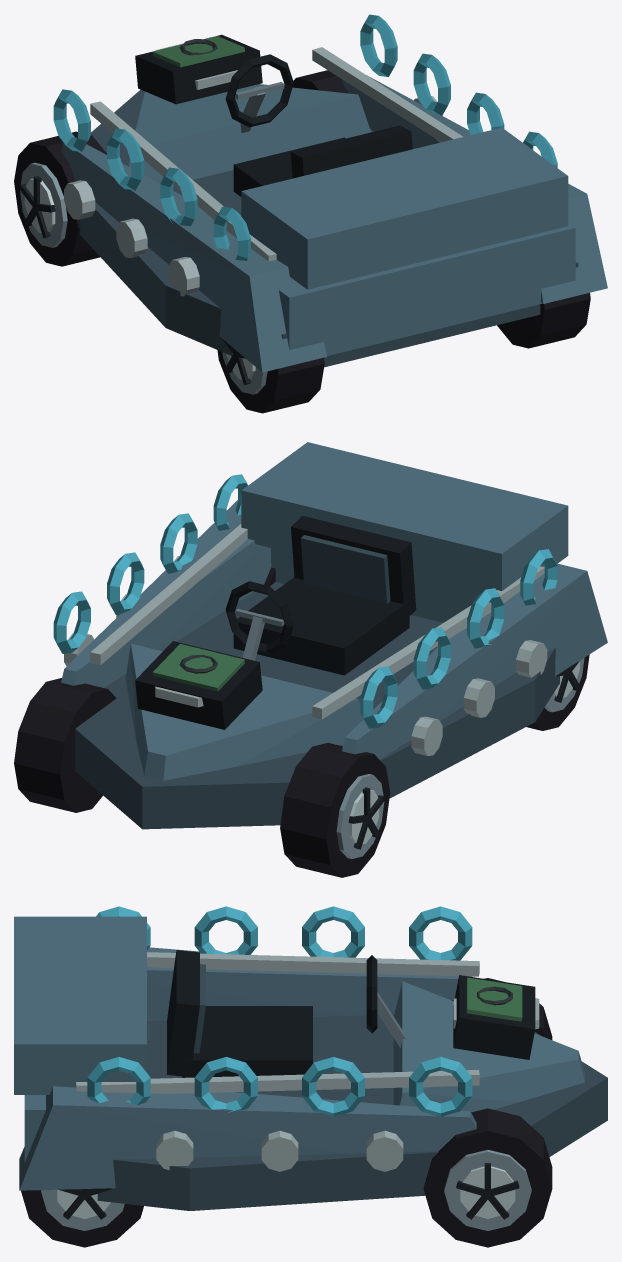
Rendered from kart.glb.
3 views of the same model, one above another, from view 1: azimuth 30°, elevation 25°; view 2: azimuth 150°, elevation 25°; view 3: azimuth 270°, elevation 25° (orthographic).
Parts seen in each view (by area): view 1: identity-ship-ship-pointed-bow-and-raised-stern, identity-ship-motif-water, identity-ship-driver-cockpit, wheel-front-left, identity-ship-motif-scanner, wheel-rear-left, wheel-rear-right, wheel-front-right; view 2: identity-ship-ship-pointed-bow-and-raised-stern, identity-ship-driver-cockpit, wheel-front-left, identity-ship-motif-water, wheel-front-right, identity-ship-motif-scanner, wheel-rear-left; view 3: identity-ship-ship-pointed-bow-and-raised-stern, identity-ship-motif-water, wheel-front-right, identity-ship-driver-cockpit, identity-ship-motif-scanner, wheel-rear-right.
Boxes of the visible parts, x1,y1,x2,y2 form: identity-ship-ship-pointed-bow-and-raised-stern: (61, 47, 607, 372); identity-ship-motif-water: (53, 14, 557, 260); identity-ship-driver-cockpit: (225, 54, 412, 196); wheel-front-left: (14, 131, 106, 266); identity-ship-motif-scanner: (135, 34, 262, 104); wheel-rear-left: (217, 339, 324, 413); wheel-rear-right: (497, 293, 590, 348); wheel-front-right: (292, 70, 348, 93); identity-ship-ship-pointed-bow-and-raised-stern: (61, 442, 607, 829); identity-ship-driver-cockpit: (225, 516, 416, 675); wheel-front-left: (280, 743, 390, 877); identity-ship-motif-water: (53, 474, 557, 728); wheel-front-right: (14, 678, 116, 812); identity-ship-motif-scanner: (135, 641, 262, 729); wheel-rear-left: (526, 654, 589, 730); identity-ship-ship-pointed-bow-and-raised-stern: (14, 916, 607, 1210); identity-ship-motif-water: (87, 906, 472, 1116); wheel-front-right: (423, 1108, 552, 1247); identity-ship-driver-cockpit: (167, 950, 405, 1077); identity-ship-motif-scanner: (453, 975, 535, 1059); wheel-rear-right: (21, 1188, 143, 1247).
Bounding box in the file's own units: 2 × 1.09 × 2.77.
